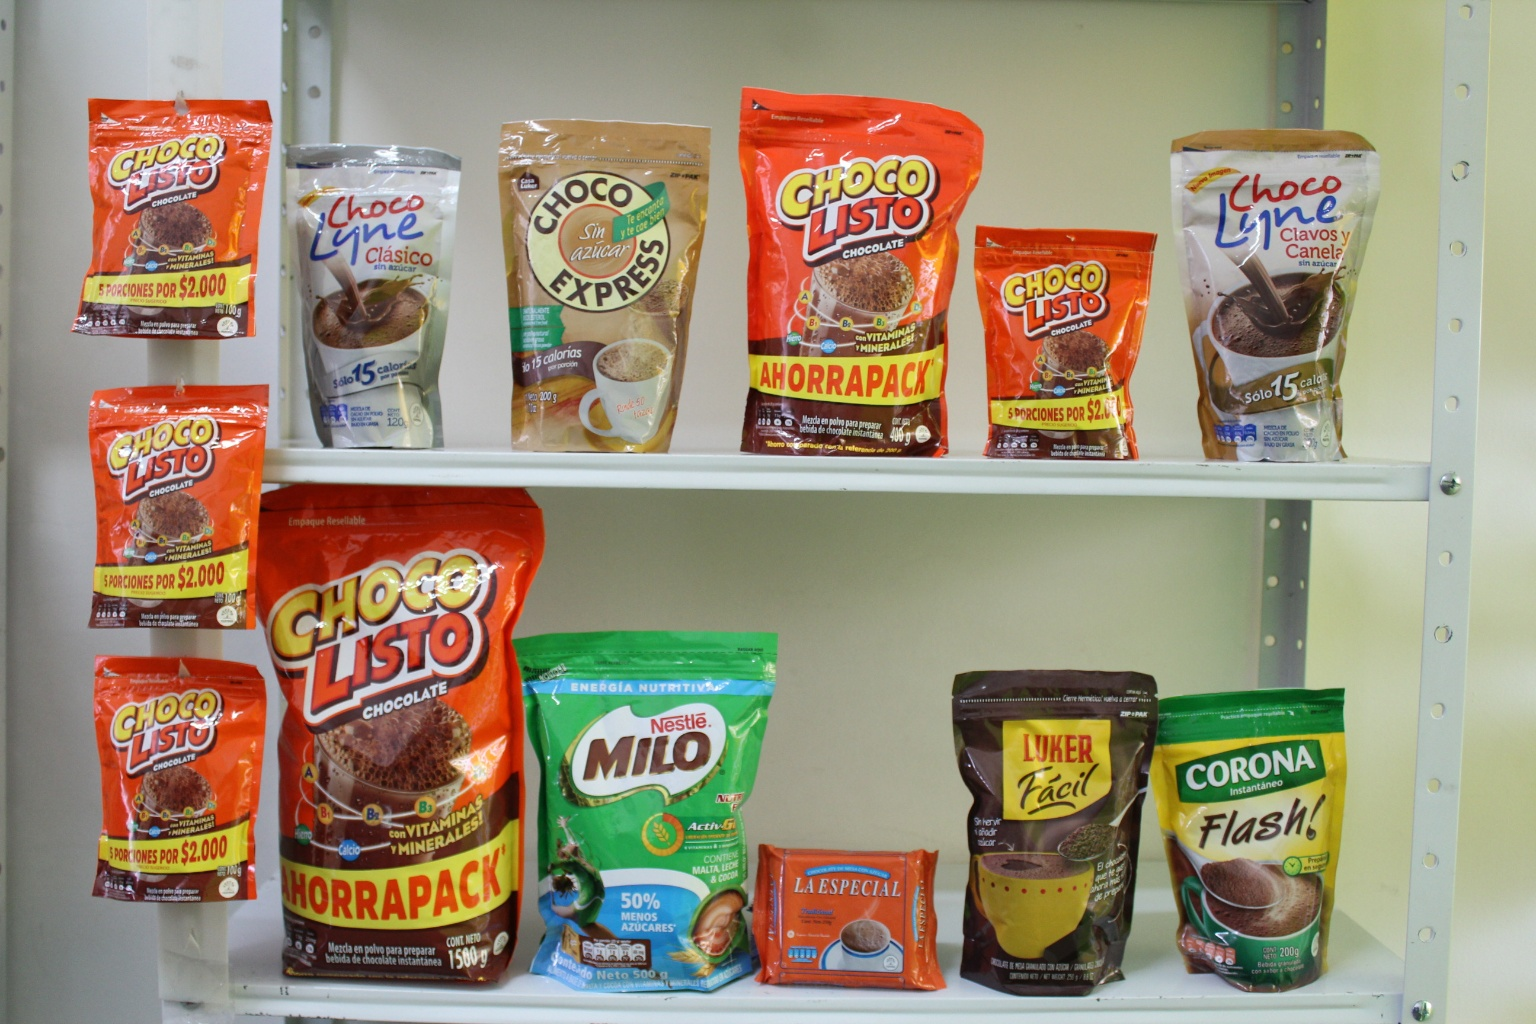COL0170103DYP1,500: (248, 481, 541, 993)
COL0170103DYP10000: (80, 650, 261, 919)
COL0170103DYP40000: (731, 74, 971, 469)
COL0170205DYP50000: (491, 600, 784, 1002)
